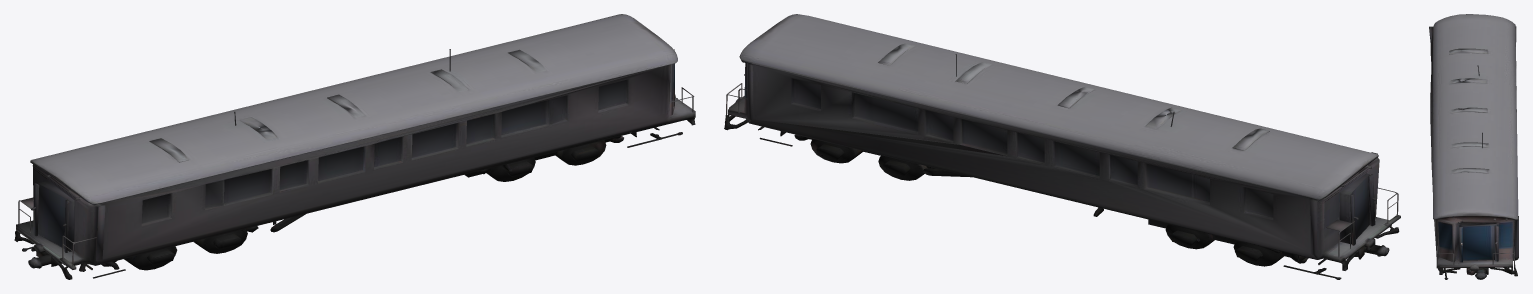
File: coach_chief.glb
The picture shows the model from 3 angles, left to right: view 1: azimuth 30°, elevation 25°; view 2: azimuth 150°, elevation 25°; view 3: azimuth 270°, elevation 25°; orthographic projection. The views are drawn at different scales.
Parts seen in each view (by area): view 1: coach_chief_LOD0; view 2: coach_chief_LOD0; view 3: coach_chief_LOD0.
Boxes of the visible parts, <box> form: coach_chief_LOD0: <box>14,14,695,279</box>; coach_chief_LOD0: <box>724,14,1400,279</box>; coach_chief_LOD0: <box>1429,14,1518,279</box>.
Size of what is drawn, in the model's own units: 16 by 3 by 2.8.
1 material, 1 textured.
